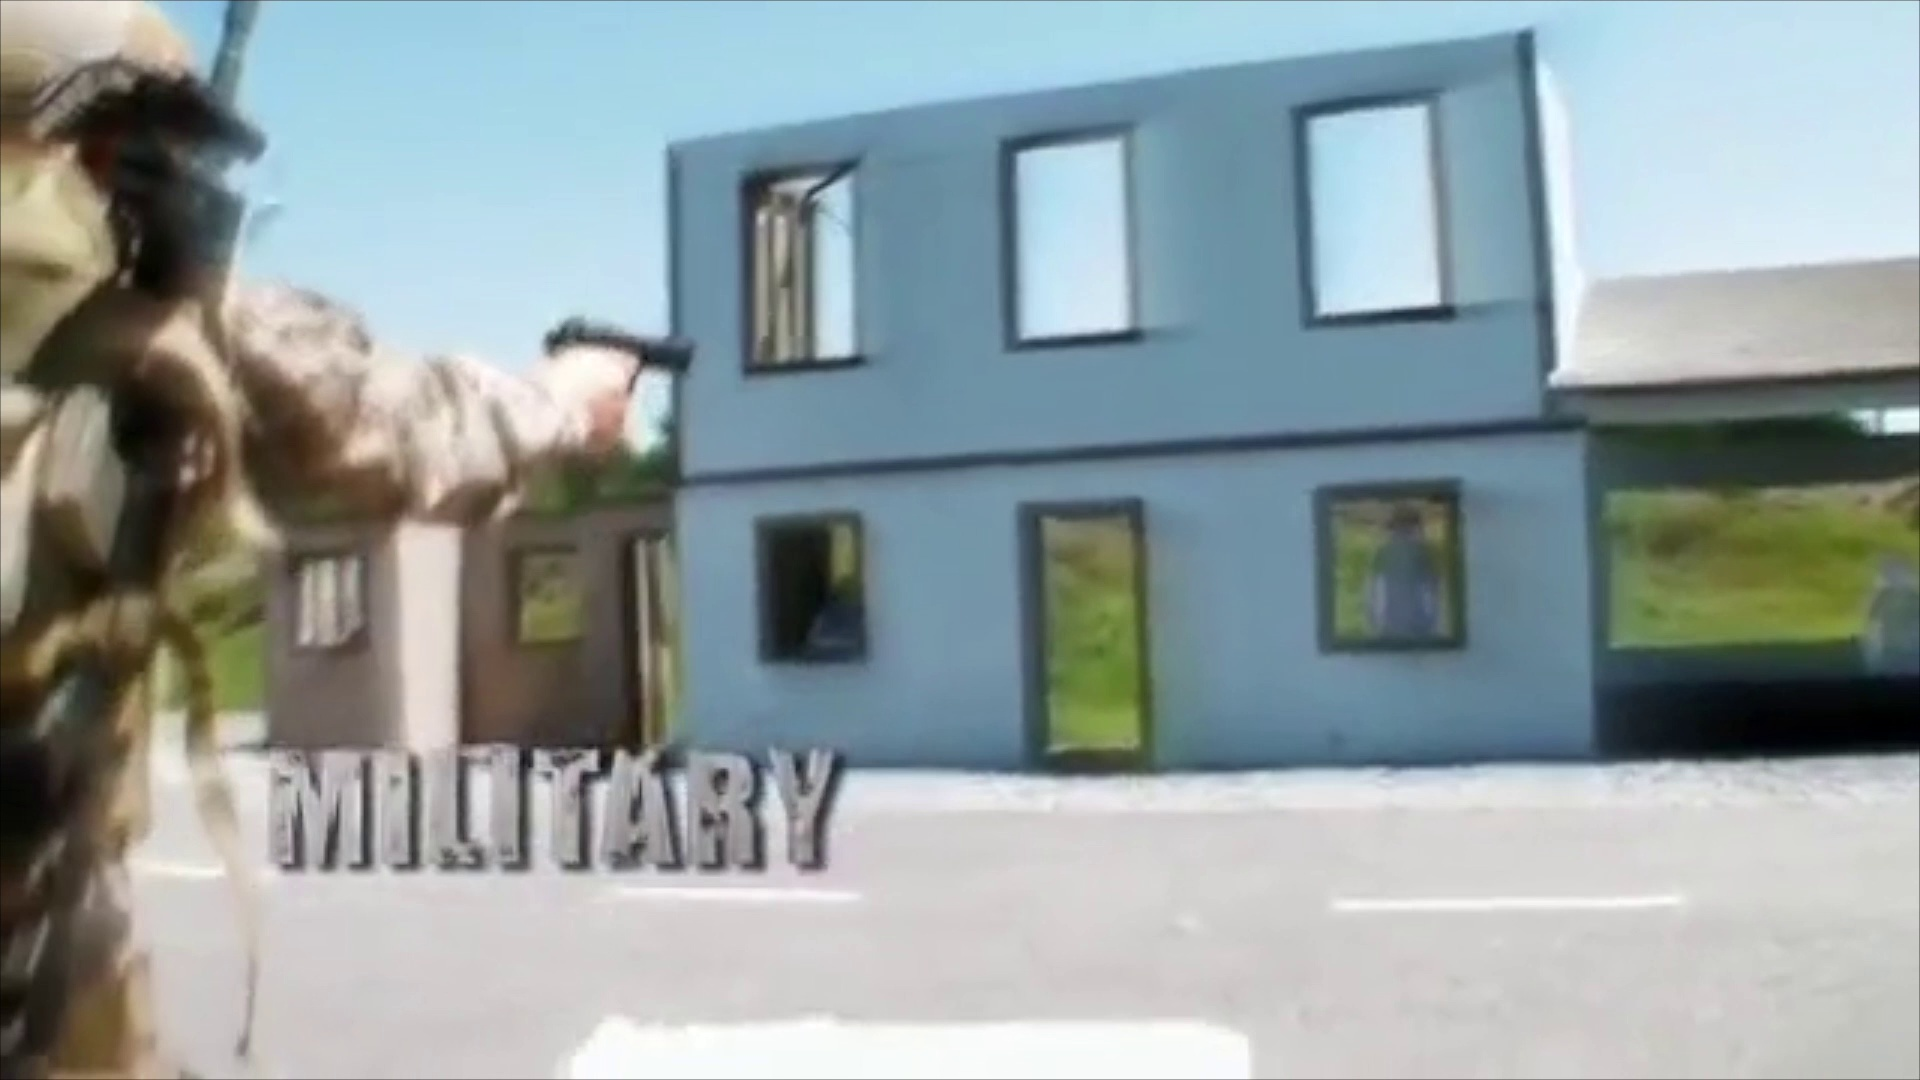gun: (538, 316, 705, 378)
